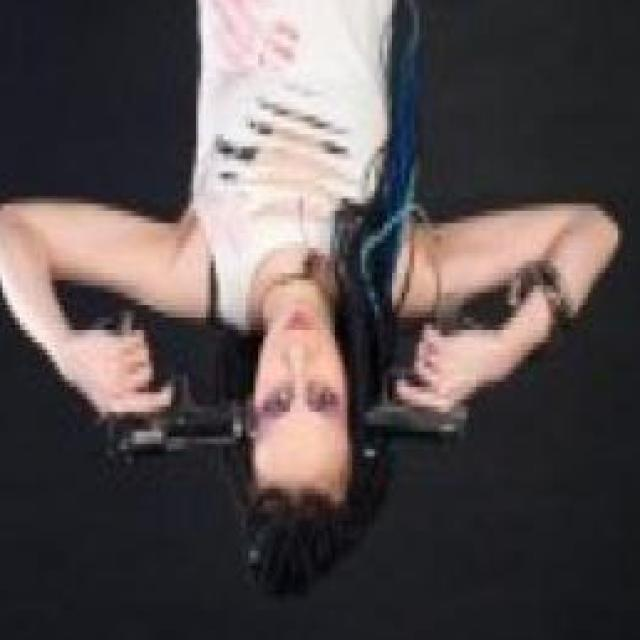pistol: (82, 299, 255, 464), (350, 316, 474, 449)
